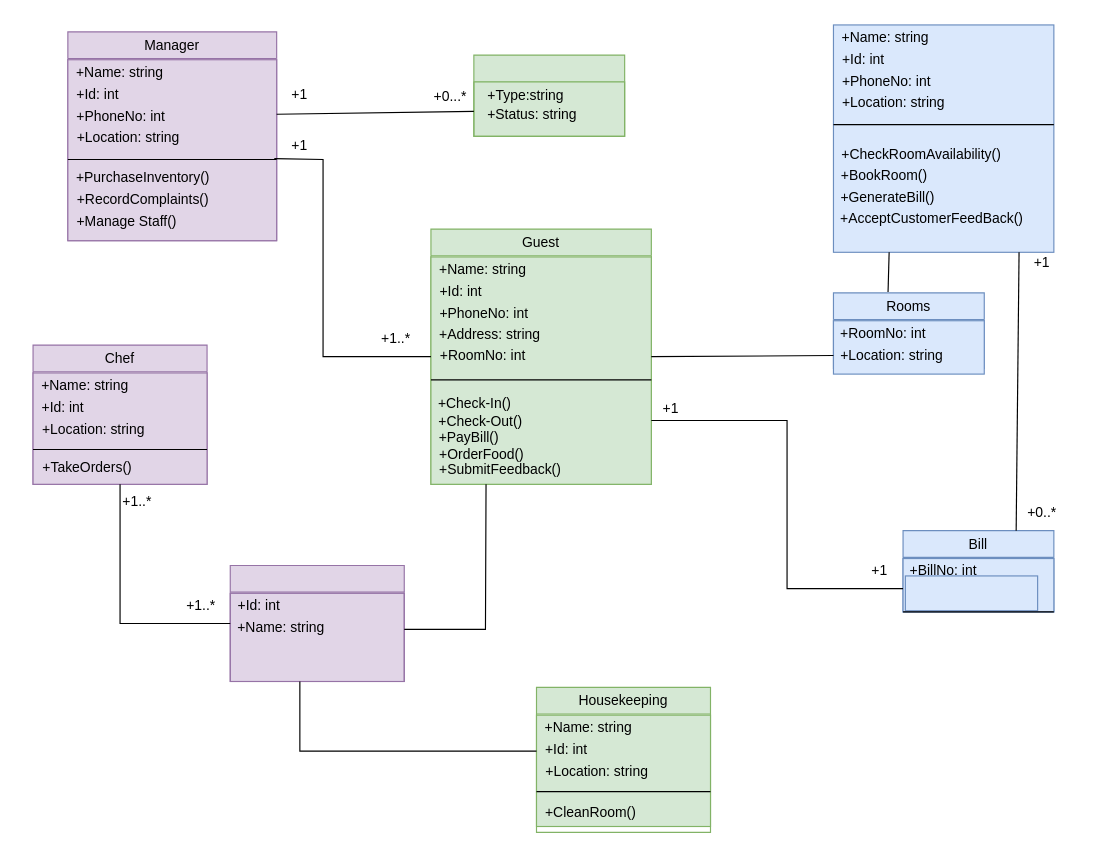
Image size: 1096x853. Some labels were removed from this diagram. The shapes that lost their labels are listed below. From the top down, each one's centre as x and y in pixels, then its label:
At pixel 549 95: "Inventory".
At pixel 971 593: "+GuestName: string".
At pixel 316 623: "Food items".
